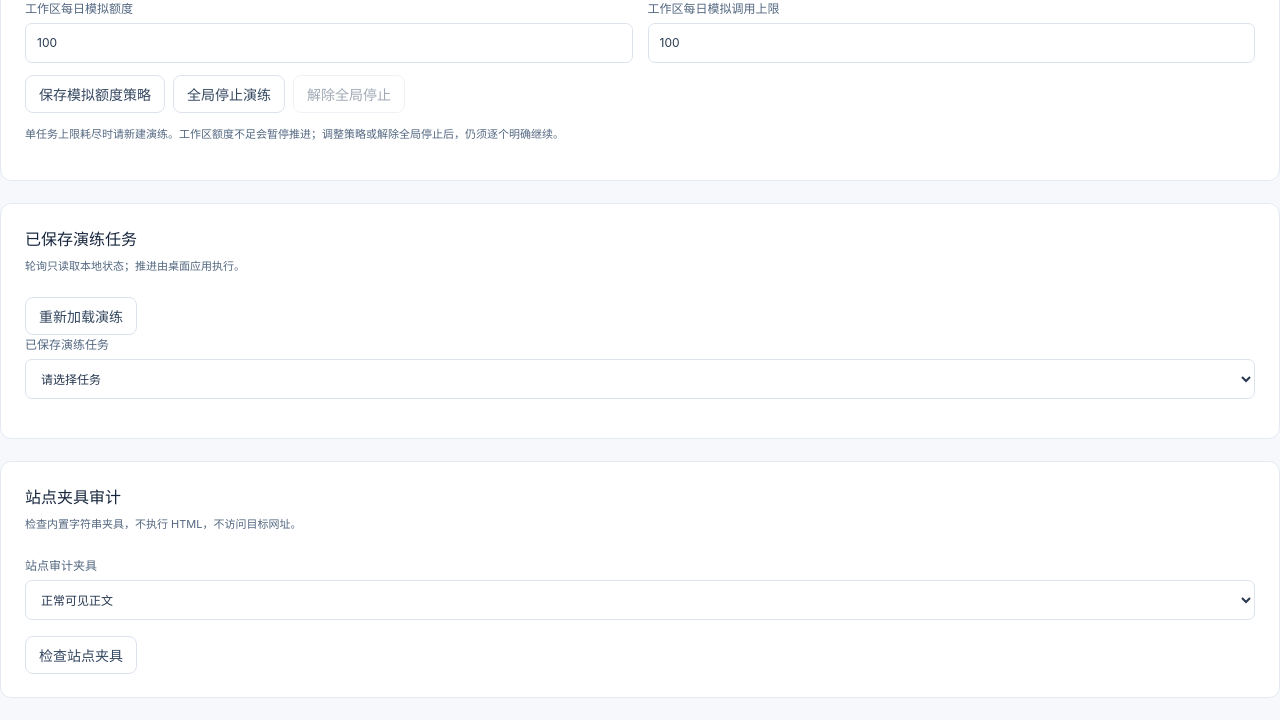
Test: runs pauses and cancels explicitly using current revisions
The image size is (1280, 720).
(page scrolled)
Select "演练任务 · 已暂停 · v1" in the dropdown labelled "已保存演练任务" at (640, 379), box x1=25 y1=359 x2=1255 y2=399
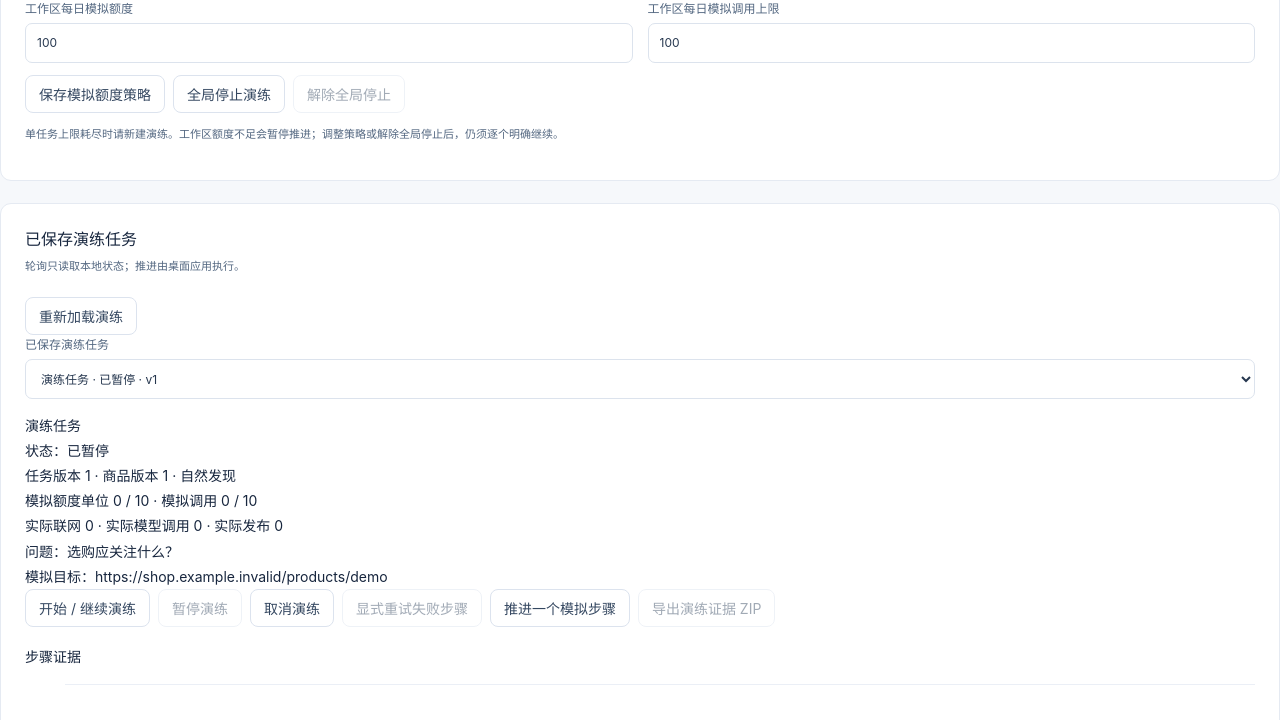
Click the button "开始 / 继续演练" at (87, 608), box x1=25 y1=589 x2=150 y2=627
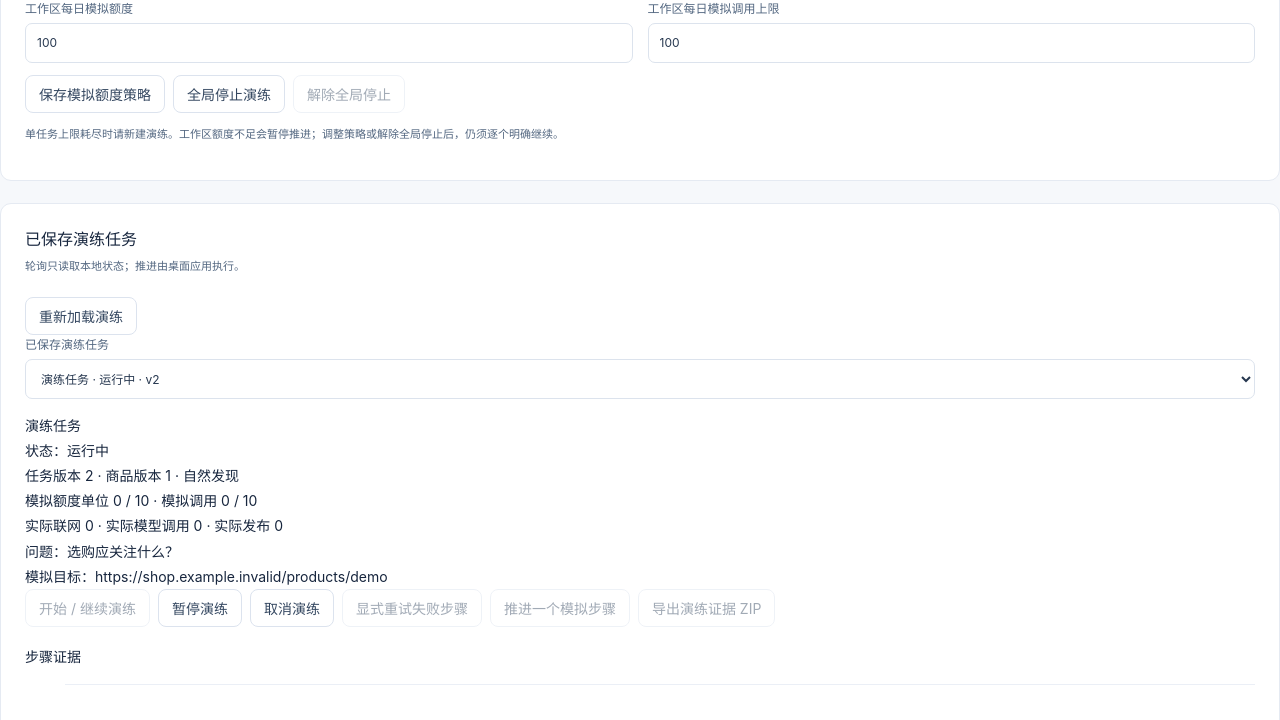
Check: the text "状态：运行中" is shown, box x1=25 y1=442 x2=109 y2=459
Click the button "暂停演练" at (200, 608), box x1=158 y1=589 x2=242 y2=627
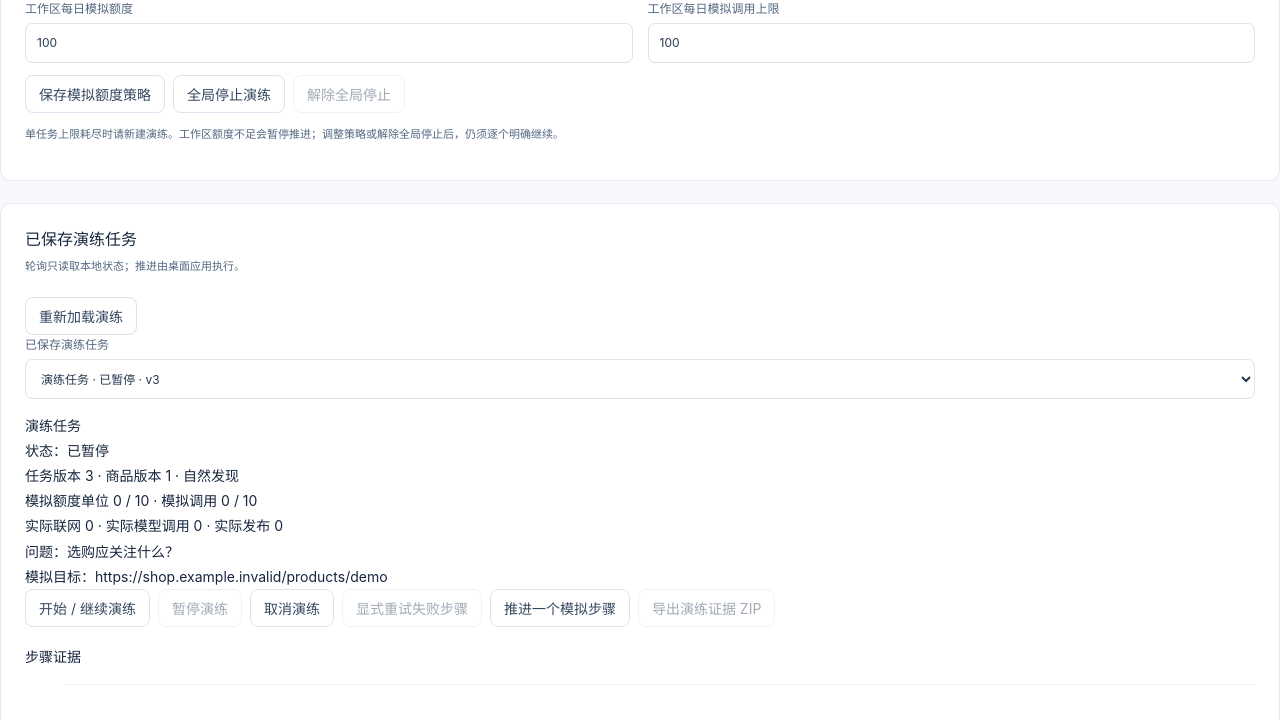
Check: the text "状态：已暂停" is shown, box x1=25 y1=442 x2=109 y2=459
Click the button "取消演练" at (292, 608), box x1=250 y1=589 x2=334 y2=627
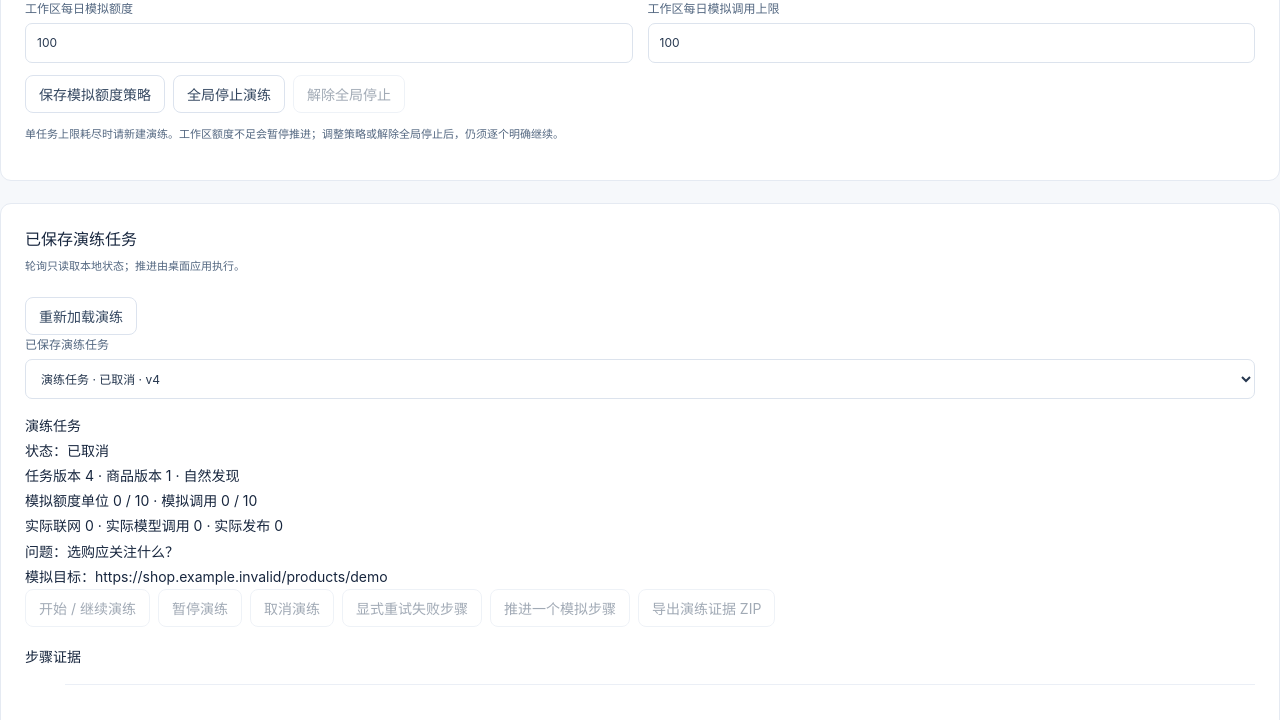
Check: the text "状态：已取消" is shown, box x1=25 y1=442 x2=109 y2=459
